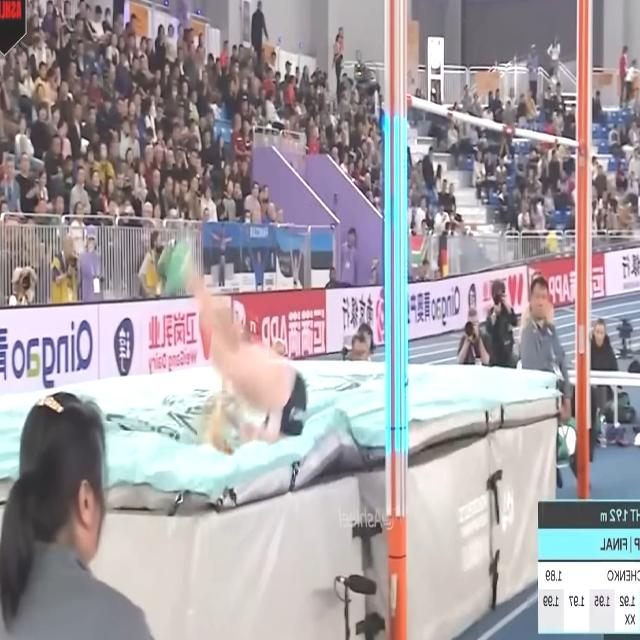land: (166, 241, 308, 441)
